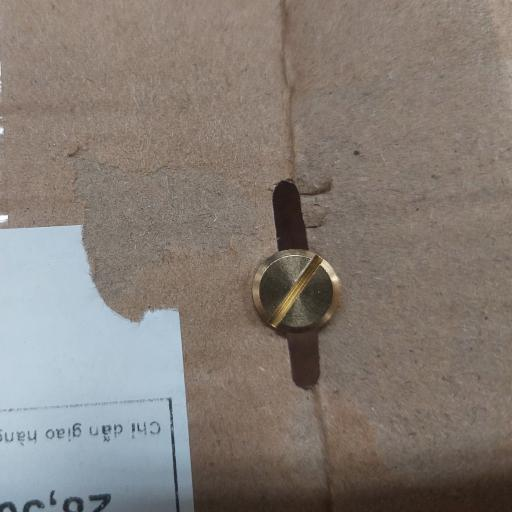Slotted: (254, 248, 341, 338)
